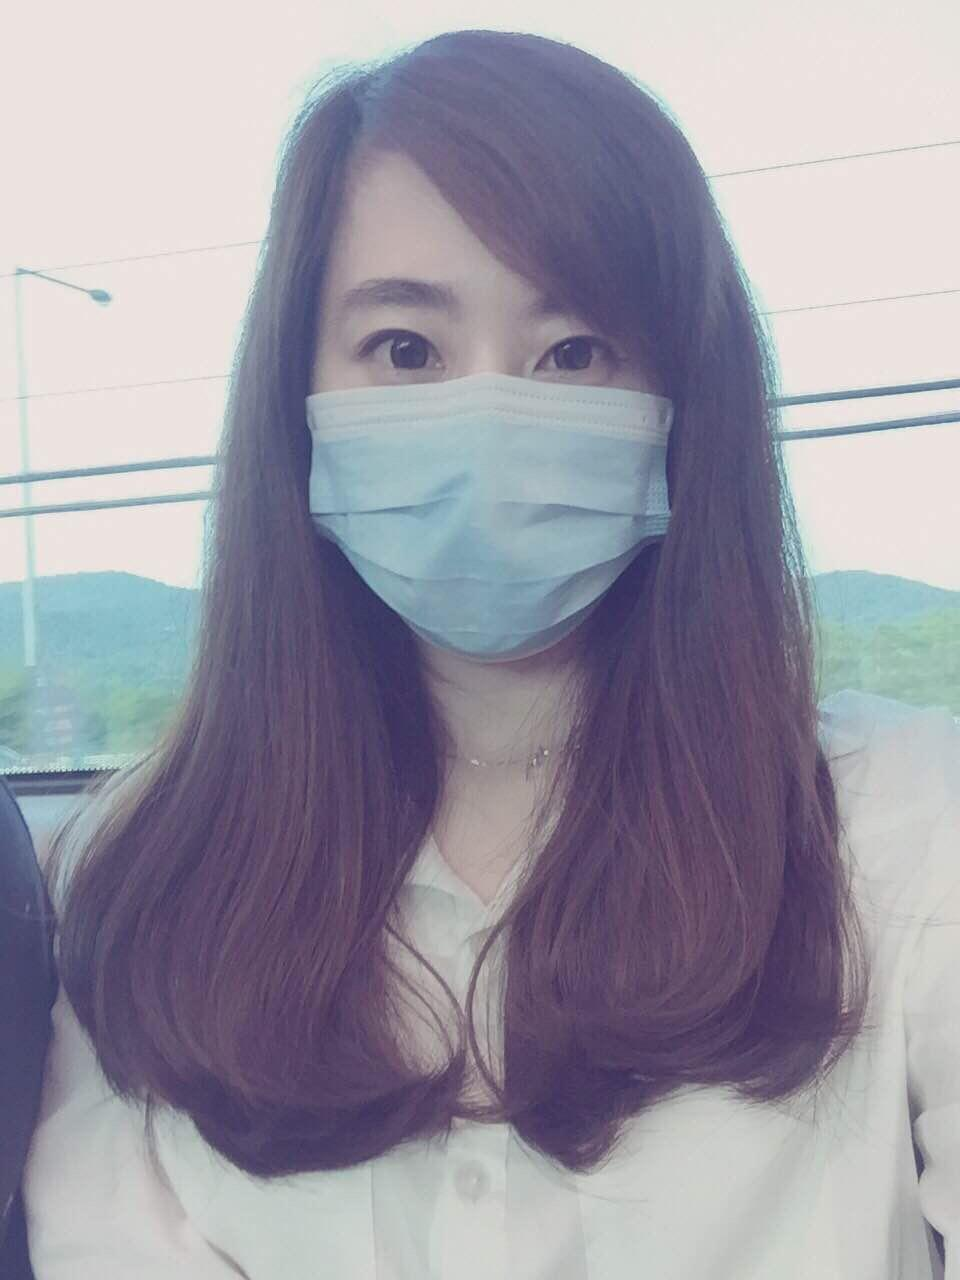face_mask: (312, 131, 644, 669)
